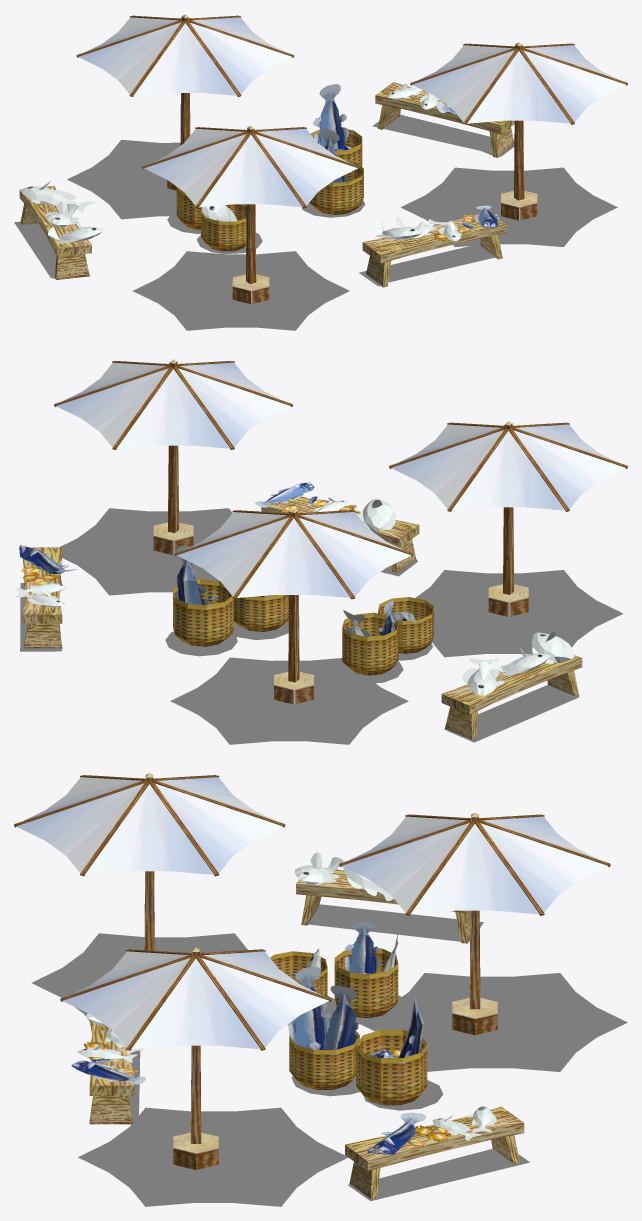
Rendered from riccostreetstall.dae.
3 renders of one model, top to bottom at view 1: azimuth 30°, elevation 25°; view 2: azimuth 150°, elevation 25°; view 3: azimuth 270°, elevation 25°, orthographic. The views are drawn at different scales.
Parts seen in each view (by area): view 1: m0, m1; view 2: m0, m1; view 3: m0, m1.
Part boxes in pixels (bbox=[...]): m0: bbox=[19, 14, 627, 304]; m1: bbox=[14, 114, 617, 330]; m0: bbox=[14, 359, 627, 739]; m1: bbox=[20, 508, 623, 744]; m0: bbox=[14, 773, 610, 1199]; m1: bbox=[32, 904, 627, 1206].
Bounding box in the file's own units: 1596 × 524 × 1358.
2 materials, 2 textured.
